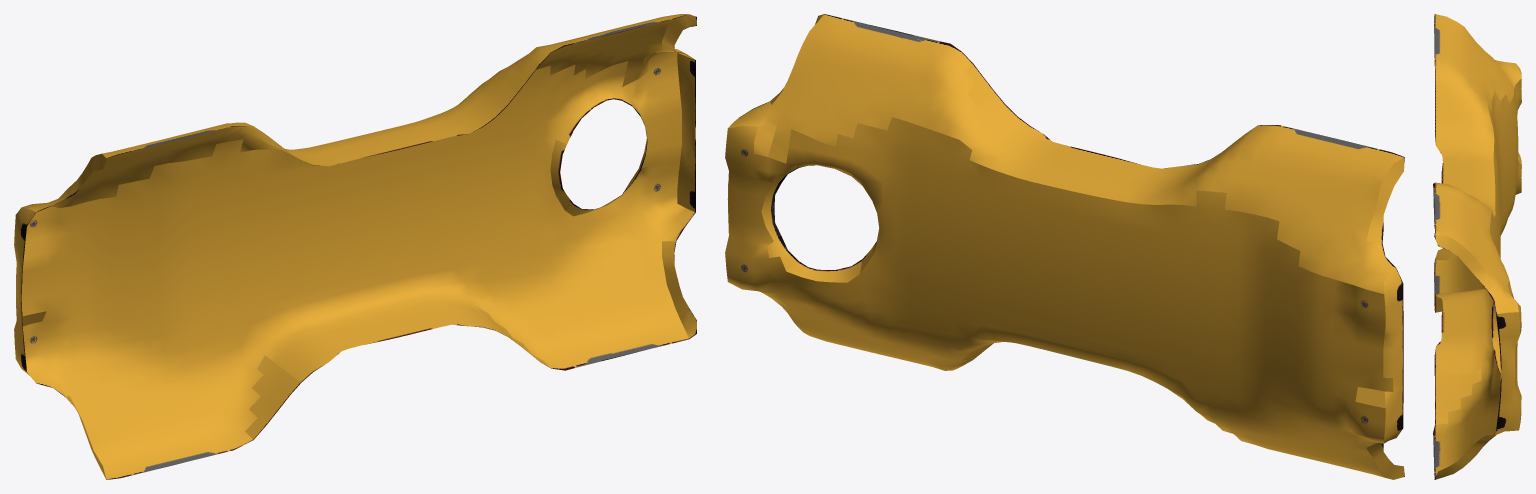
File: bottom_shell.obj
3 views of the same model, side by side, from view 1: azimuth 30°, elevation 25°; view 2: azimuth 150°, elevation 25°; view 3: azimuth 270°, elevation 25° (orthographic). The views are drawn at different scales.
Size of the model in its own units: 0.7308 by 0.3367 by 0.1088.
